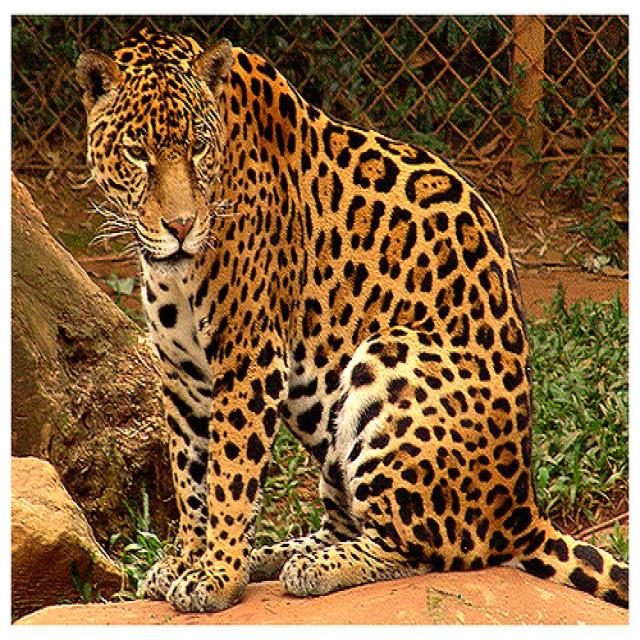Leopard: (66, 20, 626, 623)
